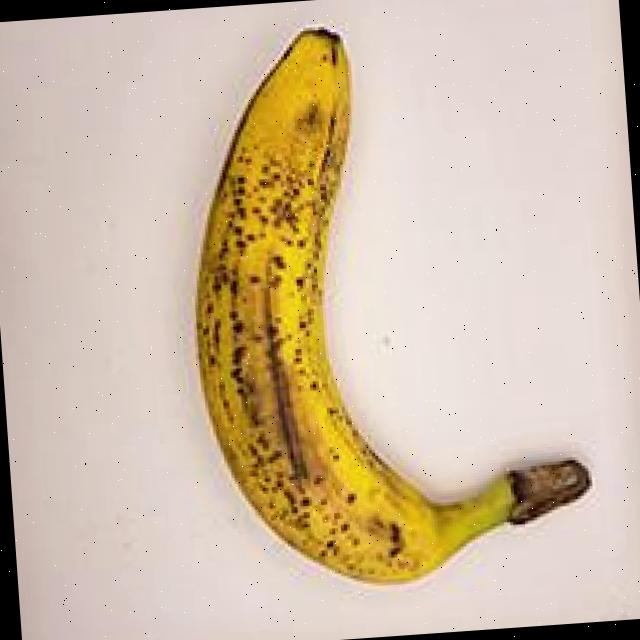Overripe: (141, 0, 617, 623)
